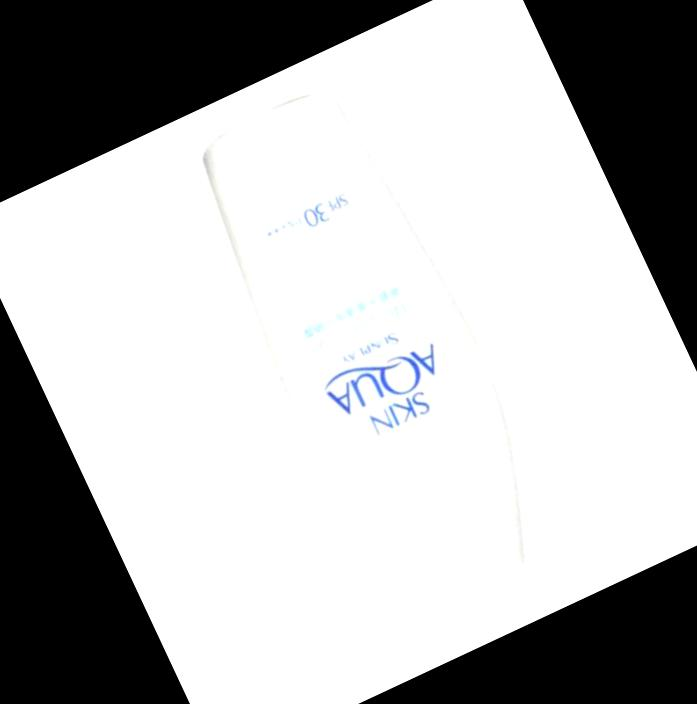cosmetic: (188, 89, 562, 630)
